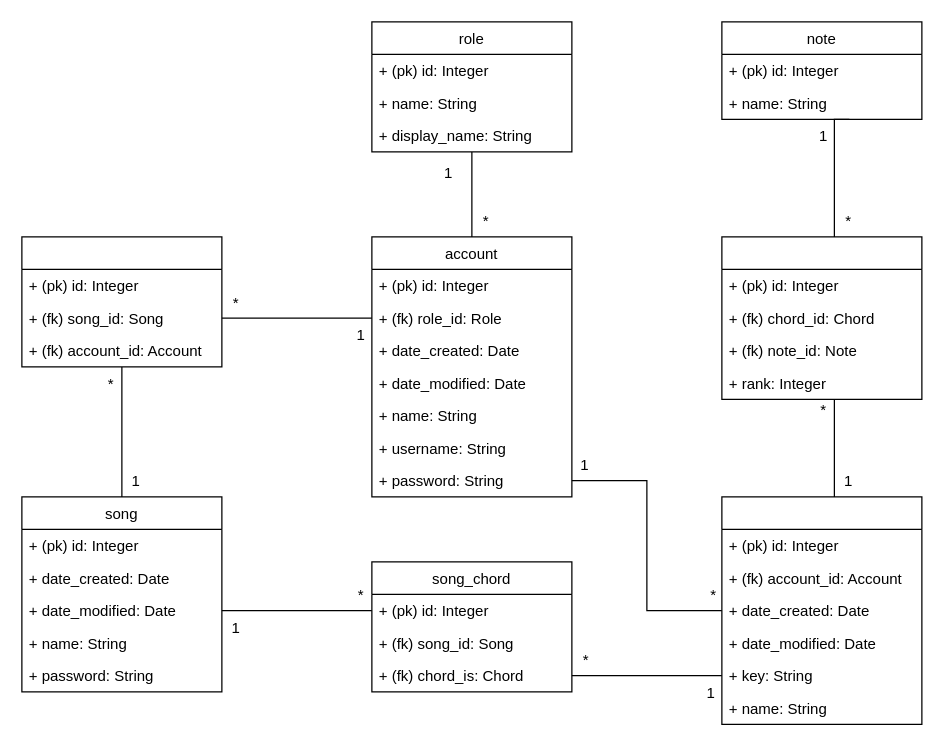
Image size: 944x750. Some labels were removed from this diagram. The box of each missing label's shape, as (x1, y1, x2, y2) in pixels:
account_favourite_song: (21, 236, 222, 367)
chord: (721, 496, 922, 724)
chord_note: (721, 236, 922, 399)
